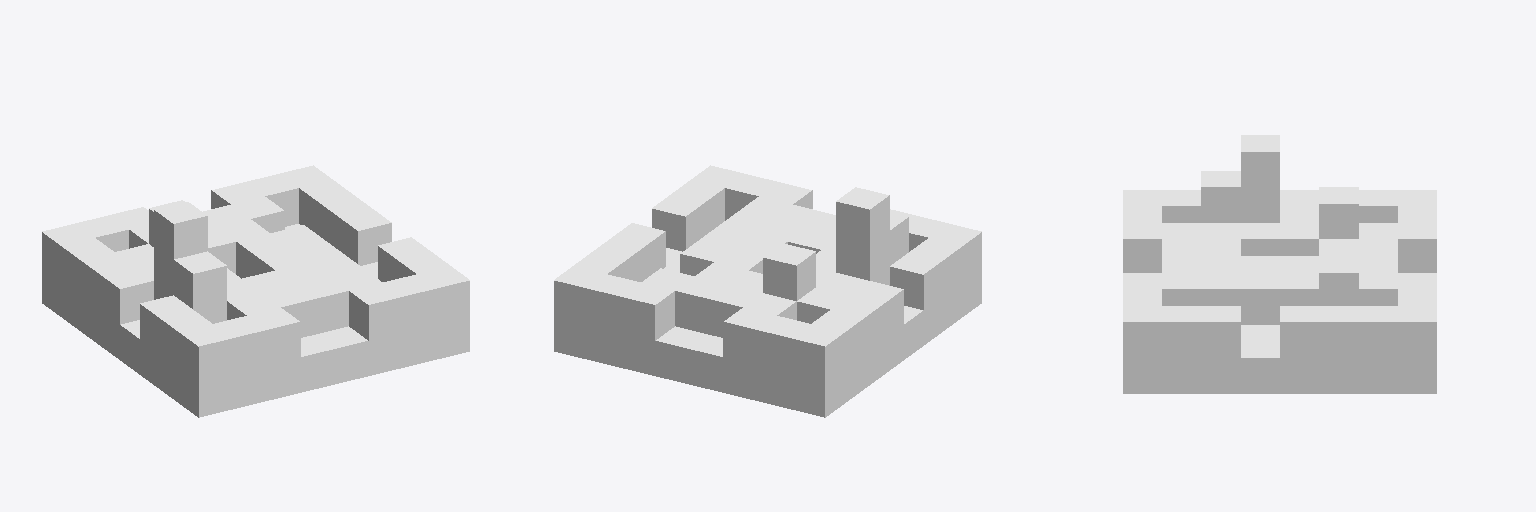
File: GreenCorall9.obj
The picture shows the model from 3 angles: view 1: azimuth 30°, elevation 25°; view 2: azimuth 150°, elevation 25°; view 3: azimuth 270°, elevation 25°; orthographic projection.
Visible parts, largest first — view 1: object 1; view 2: object 1; view 3: object 1.
Part boxes in pixels (x1,y1,x2,y2): object 1: (42,165,469,417); object 1: (554,165,981,417); object 1: (1123,135,1436,393).
Bounding box in the file's own units: 0.8 × 0.4 × 0.8.